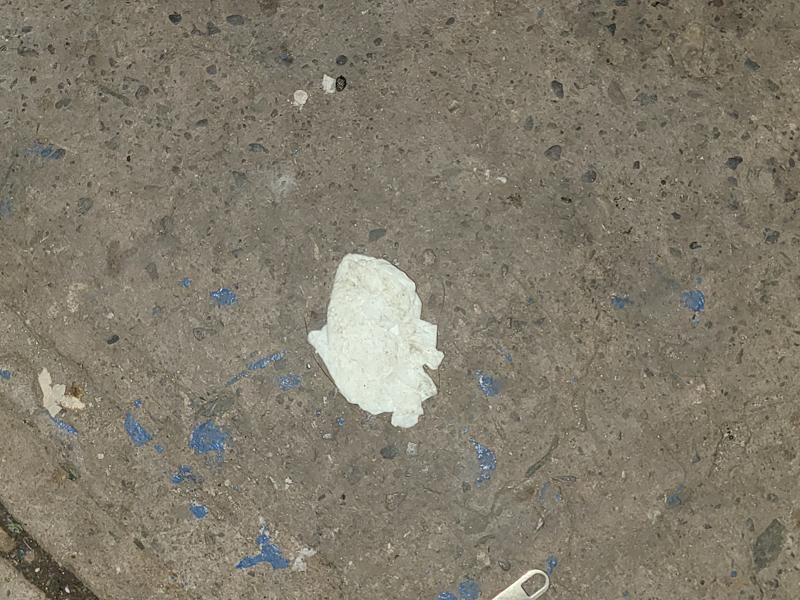papel: (306, 254, 444, 429)
